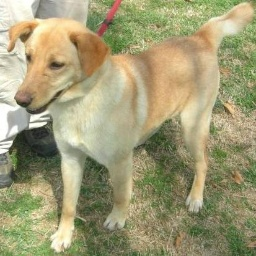dog: (7, 9, 243, 250)
